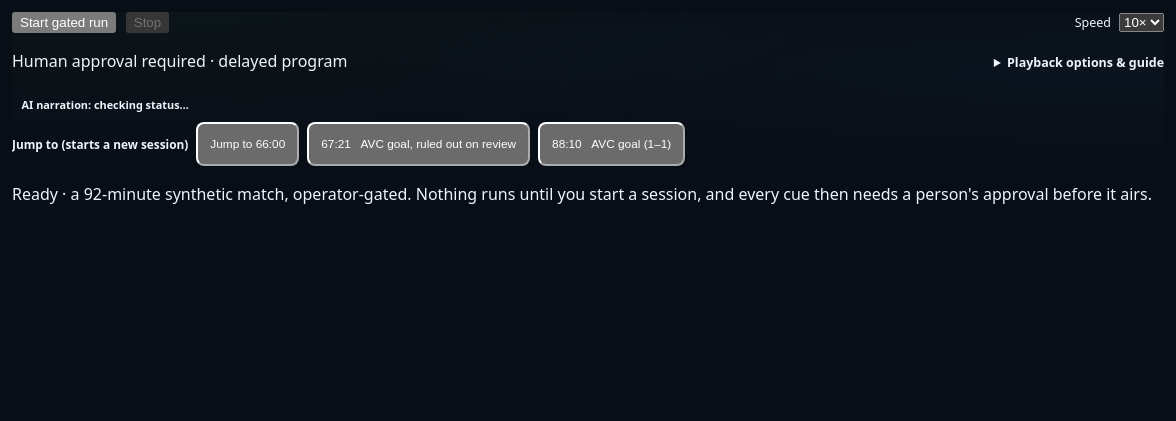
Test case: MatchControls mode switch › shows which mode is on and keeps the labelled radio keyboard-reachable
Click the heading "Playback options & guide" at (1086, 62), box 1007,54 -> 1164,71
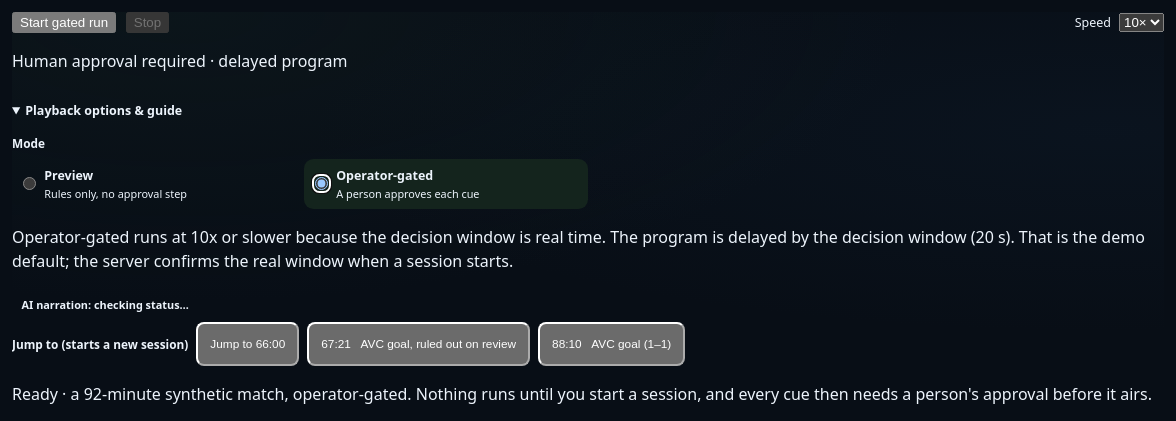
Check: the radio button labelled "Operator-gated A person approves each cue" is checked, box 315,177 -> 328,190
